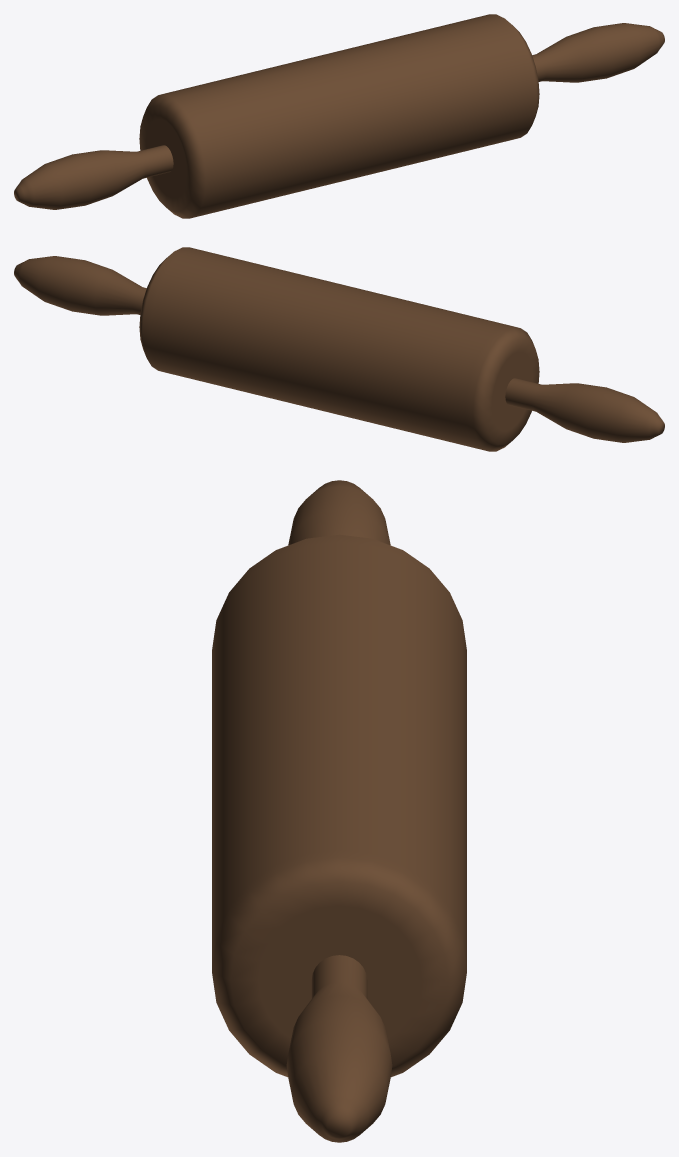
The model's file is Merdane.fbx.
The picture shows the model from 3 angles, top to bottom: view 1: azimuth 30°, elevation 25°; view 2: azimuth 150°, elevation 25°; view 3: azimuth 270°, elevation 25°; orthographic projection. The views are drawn at different scales.
Parts seen in each view (by area): view 1: Merdane; view 2: Merdane; view 3: Merdane.
Part boxes in pixels (x1,y1,x2,y2): Merdane: (14,14,664,218); Merdane: (14,247,664,451); Merdane: (212,480,466,1142).
Size of the model in its own units: 701 by 120 by 120.
